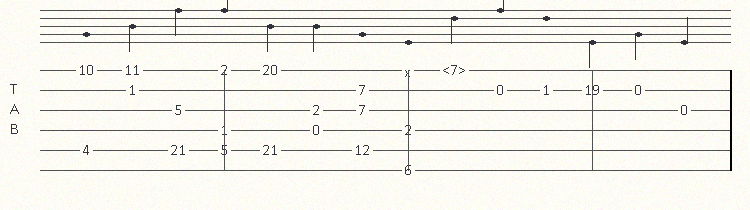0: (312, 123, 324, 137), (496, 83, 508, 97), (634, 83, 646, 97), (680, 103, 692, 117)
1: (128, 83, 140, 97), (220, 123, 232, 137), (542, 83, 554, 97)
10: (78, 63, 98, 77)
11: (124, 63, 144, 77)
12: (354, 143, 374, 157)
19: (584, 83, 604, 97)
2: (220, 63, 232, 77), (312, 103, 324, 117), (404, 123, 416, 137)
20: (262, 63, 282, 77)
21: (170, 143, 190, 157), (262, 143, 282, 157)
4: (82, 143, 94, 157)
5: (174, 103, 186, 117), (220, 143, 232, 157)
6: (404, 163, 416, 177)
7: (358, 83, 370, 97), (358, 103, 370, 117)
harmonic: (442, 63, 470, 77)
x: (404, 65, 415, 76)
